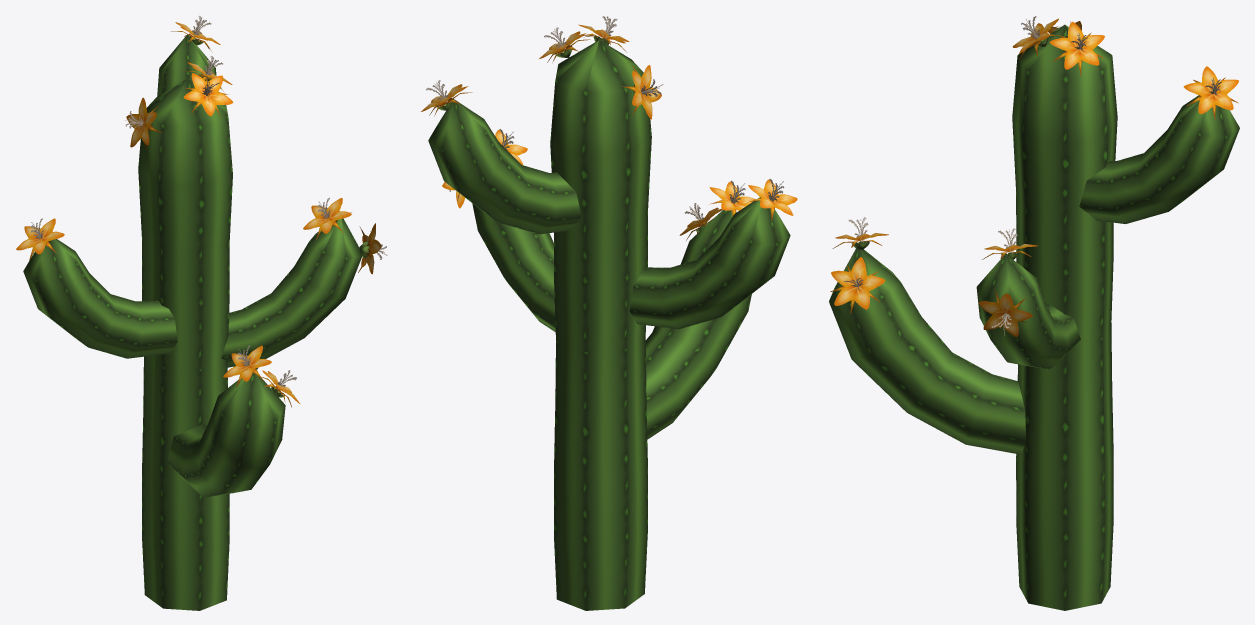
The model's file is Ctn_cactus_01_v02_flowers.FBX.
The picture shows the model from 3 angles, left to right: view 1: azimuth 30°, elevation 25°; view 2: azimuth 150°, elevation 25°; view 3: azimuth 270°, elevation 25°; orthographic projection. The views are drawn at different scales.
Visible parts, largest first — view 1: Ctn_cactus_01_v02_flowers; view 2: Ctn_cactus_01_v02_flowers; view 3: Ctn_cactus_01_v02_flowers.
Part boxes in pixels (x1,y1,x2,y2): Ctn_cactus_01_v02_flowers: (16, 16, 387, 610); Ctn_cactus_01_v02_flowers: (421, 16, 797, 610); Ctn_cactus_01_v02_flowers: (829, 16, 1239, 610).
Size of the model in its own units: 87.27 by 126 by 81.2.
